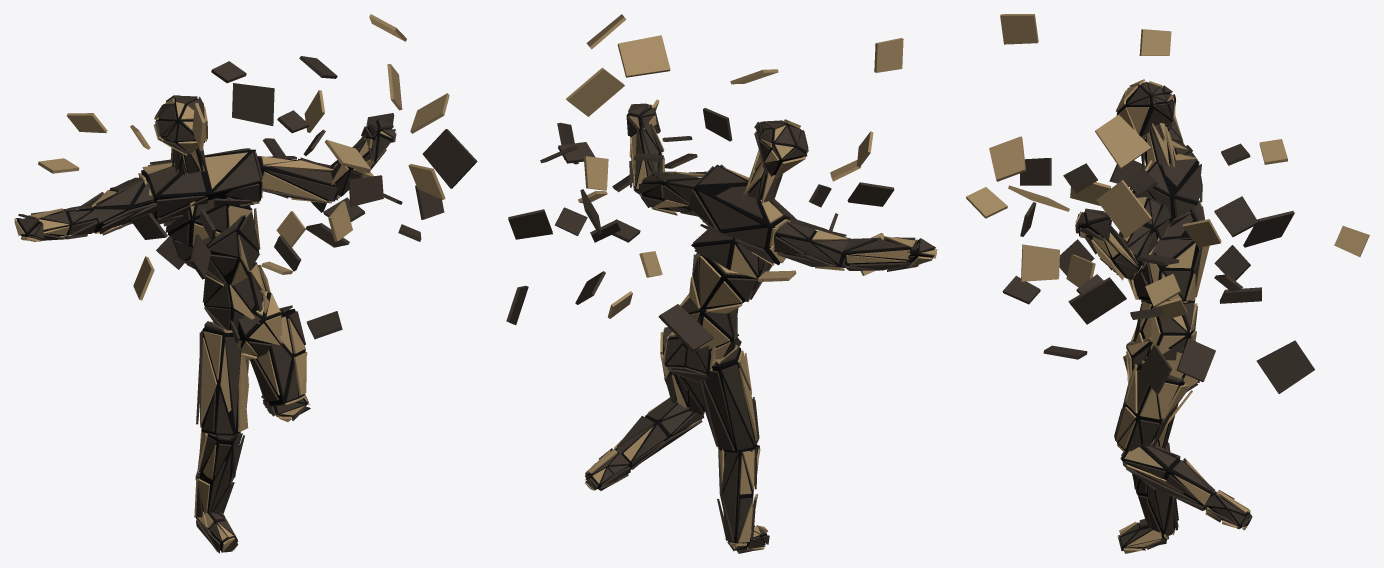
Rendered from huntington.glb.
3 views of the same model, side by side, from view 1: azimuth 30°, elevation 25°; view 2: azimuth 150°, elevation 25°; view 3: azimuth 270°, elevation 25° (orthographic). The views are drawn at different scales.
Parts seen in each view (by area): view 1: Sculpture; view 2: Sculpture; view 3: Sculpture.
Part boxes in pixels (<box>): Sculpture: <box>14,14,477,553</box>; Sculpture: <box>506,14,937,553</box>; Sculpture: <box>966,14,1369,553</box>.
Bounding box in the file's own units: 2.68 × 3.02 × 2.19.
